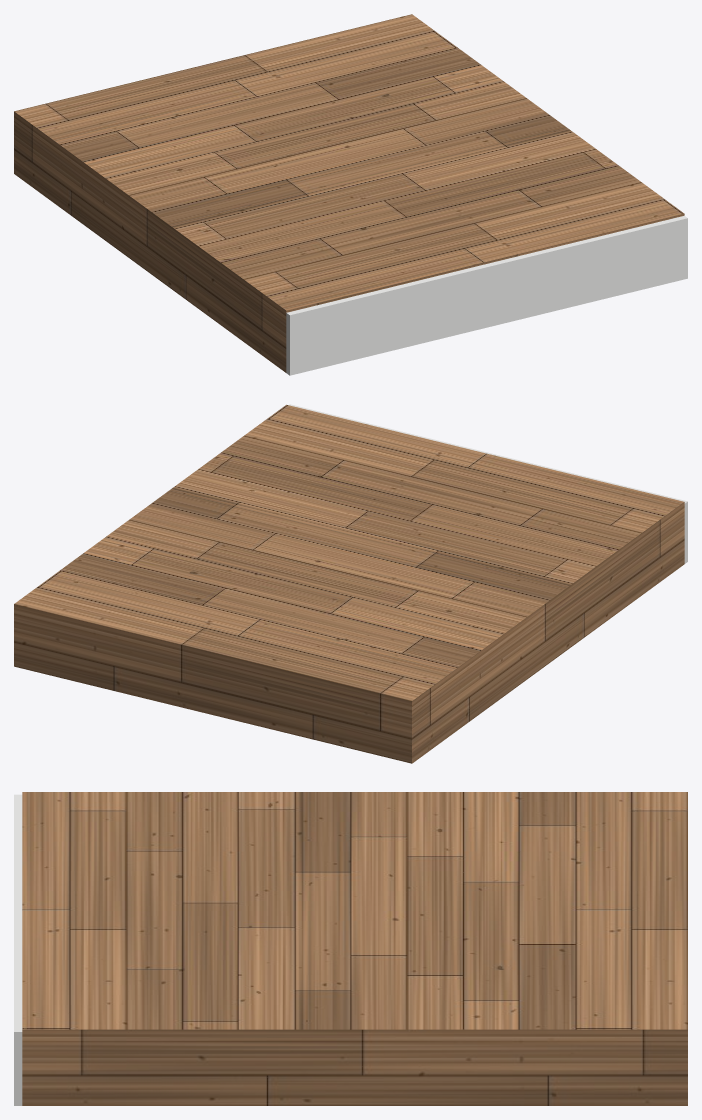
The model's file is porch_deck.glb.
3 renders of one model, top to bottom at view 1: azimuth 30°, elevation 25°; view 2: azimuth 150°, elevation 25°; view 3: azimuth 270°, elevation 25°, orthographic. The views are drawn at different scales.
Parts seen in each view (by area): view 1: porch_deck_deck, porch_deck_trim; view 2: porch_deck_deck, porch_deck_trim; view 3: porch_deck_deck, porch_deck_trim.
Part boxes in pixels (x1=…): porch_deck_deck: x1=14, y1=14, x2=684, y2=372; porch_deck_trim: x1=286, y1=215, x2=687, y2=375; porch_deck_deck: x1=14, y1=404, x2=684, y2=763; porch_deck_trim: x1=289, y1=404, x2=687, y2=563; porch_deck_deck: x1=22, y1=792, x2=687, y2=1105; porch_deck_trim: x1=14, y1=794, x2=22, y2=1105.
Size of the model in its own units: 2 by 0.3 by 2.4.
2 materials, 1 textured.
